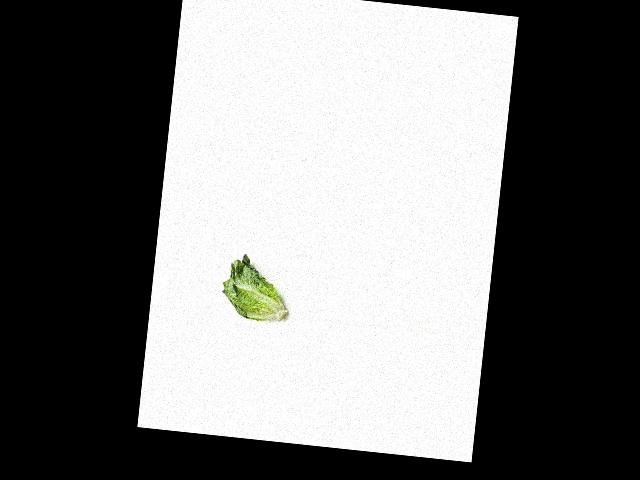lettuce: (216, 252, 291, 325)
